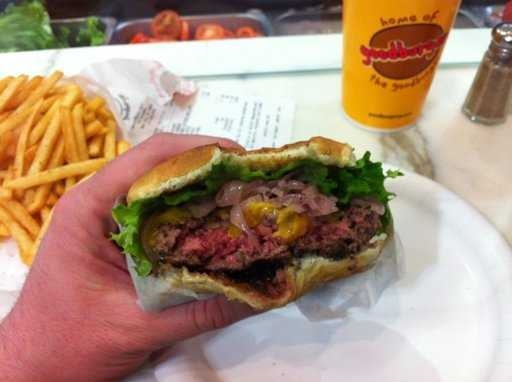hamburger: (105, 149, 392, 290)
